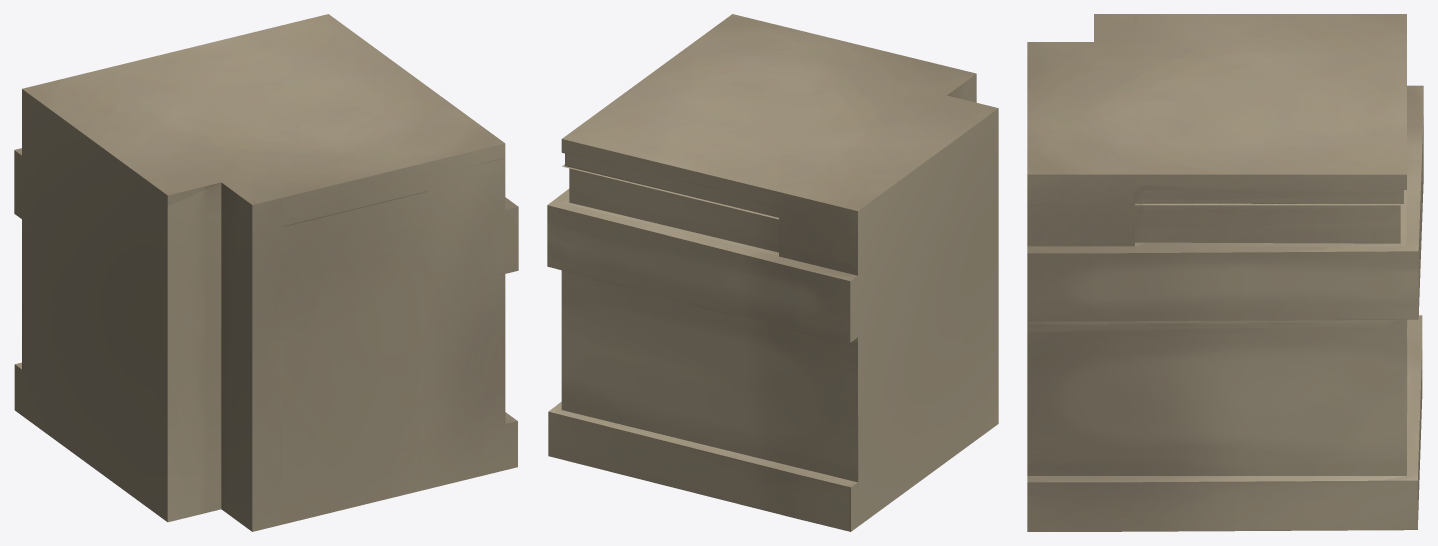
Rendered from path_corner.fbx.
3 views of the same model, side by side, from view 1: azimuth 30°, elevation 25°; view 2: azimuth 150°, elevation 25°; view 3: azimuth 270°, elevation 25° (orthographic). The views are drawn at different scales.
Visible parts, largest first — view 1: path_corner; view 2: path_corner; view 3: path_corner.
Boxes of the visible parts, x1,y1,x2,y2 form: path_corner: [14, 14, 518, 531]; path_corner: [547, 14, 998, 531]; path_corner: [1027, 14, 1423, 531].
Bounding box in the file's own units: 382 × 373 × 382.
